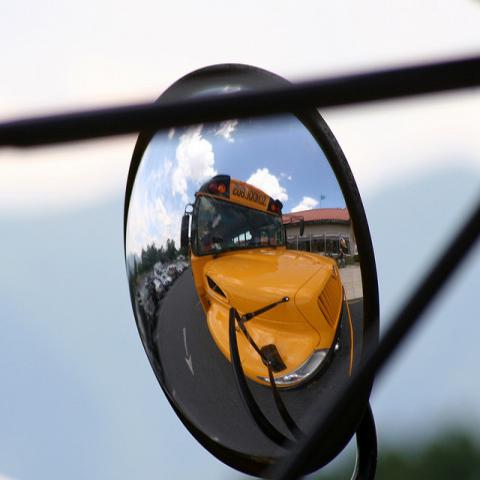bus: (181, 174, 346, 389)
car: (154, 279, 163, 300), (156, 277, 168, 292), (168, 263, 180, 278), (162, 274, 173, 286), (166, 268, 176, 280), (175, 262, 184, 275), (181, 261, 189, 268)
